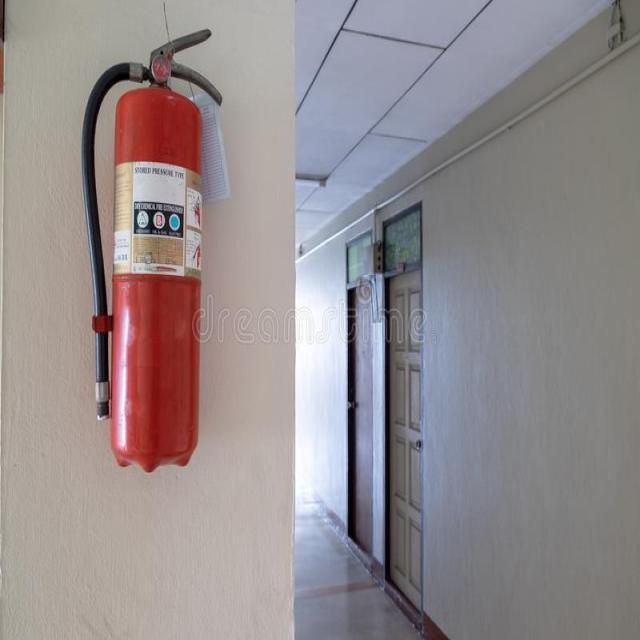fire_extinguisher: (73, 26, 227, 482)
